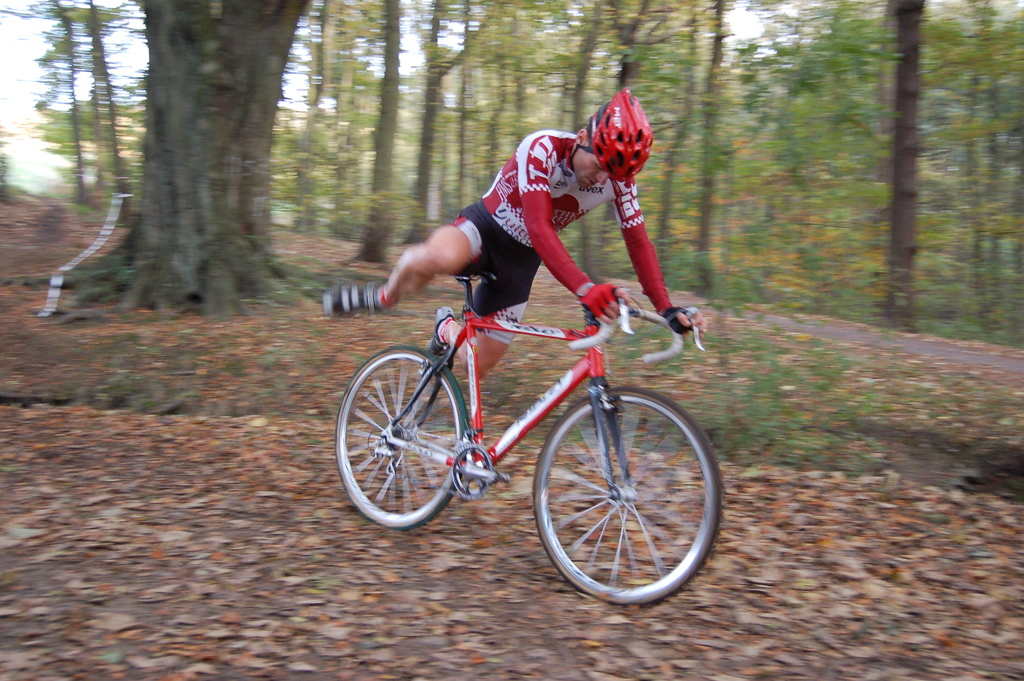Bike_toward: (331, 266, 722, 605)
